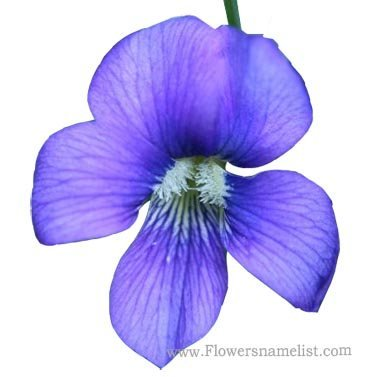violet: (29, 20, 341, 369)
